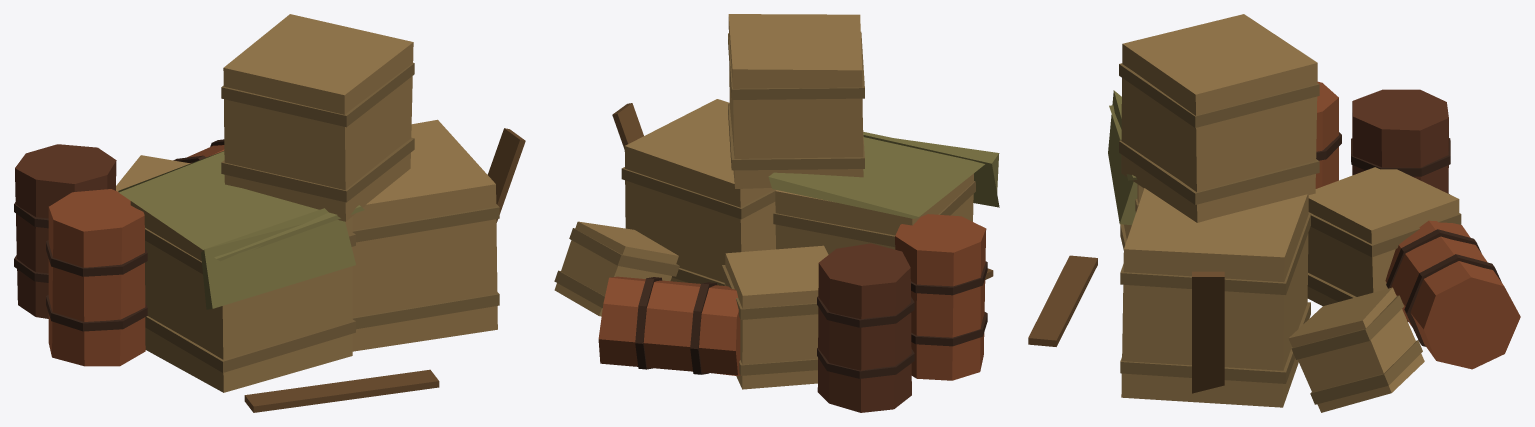
Rendered from crates.glb.
3 renders of one model, left to right at view 1: azimuth 30°, elevation 25°; view 2: azimuth 150°, elevation 25°; view 3: azimuth 270°, elevation 25°, orthographic. The views are drawn at different scales.
Visible parts, largest first — view 1: crates; view 2: crates; view 3: crates.
Part boxes in pixels (box(x1,y1,x2,y2)): crates: box(14, 14, 525, 412); crates: box(554, 14, 999, 412); crates: box(1028, 14, 1520, 412).
Bounding box in the file's own units: 2.78 × 1.73 × 2.71.
